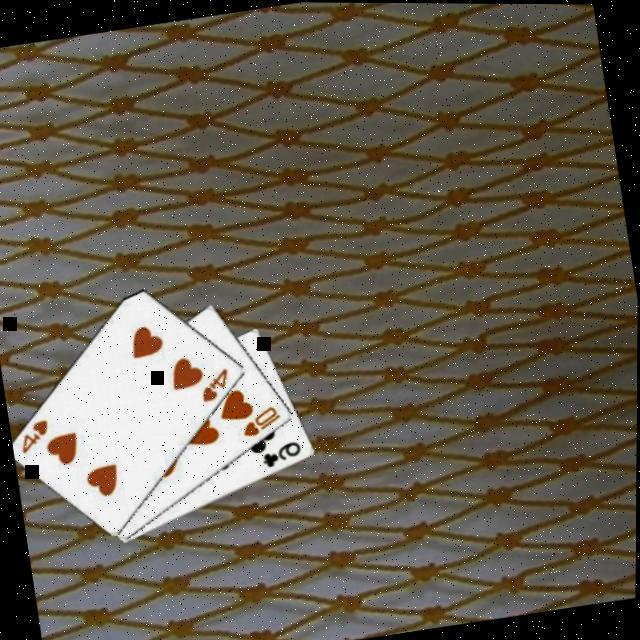10H: (237, 401, 284, 438)
4H: (14, 414, 55, 455), (196, 362, 236, 404)
9C: (258, 434, 306, 469)
